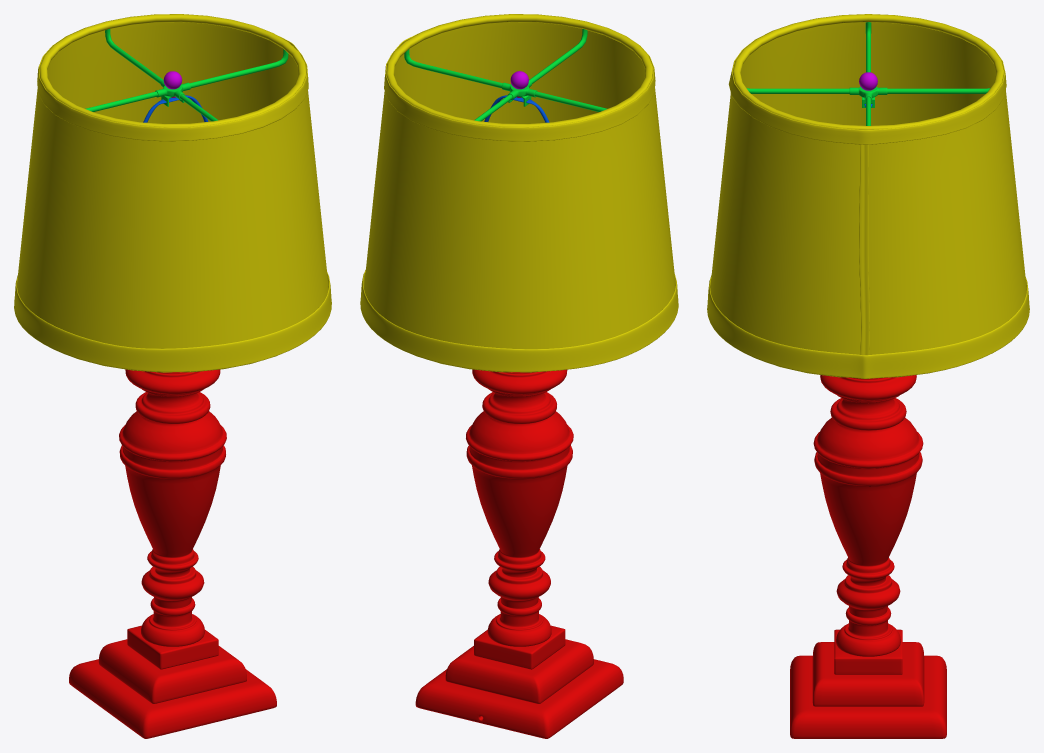
File: Lamp (fin).fbx
3 renders of one model, left to right at view 1: azimuth 30°, elevation 25°; view 2: azimuth 150°, elevation 25°; view 3: azimuth 270°, elevation 25°, orthographic.
Parts seen in each view (by area): view 1: Lampa; view 2: Lampa; view 3: Lampa.
Part boxes in pixels (x1,y1,x2,y2): Lampa: (14, 14, 331, 738); Lampa: (360, 14, 678, 738); Lampa: (707, 14, 1029, 738).
Size of the model in its own units: 25.69 by 55.39 by 25.48.
